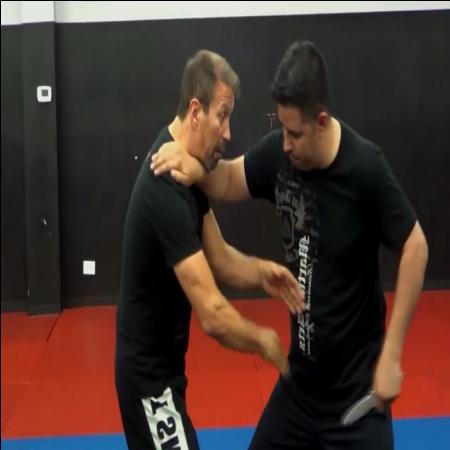long weapon: (340, 370, 404, 430)
